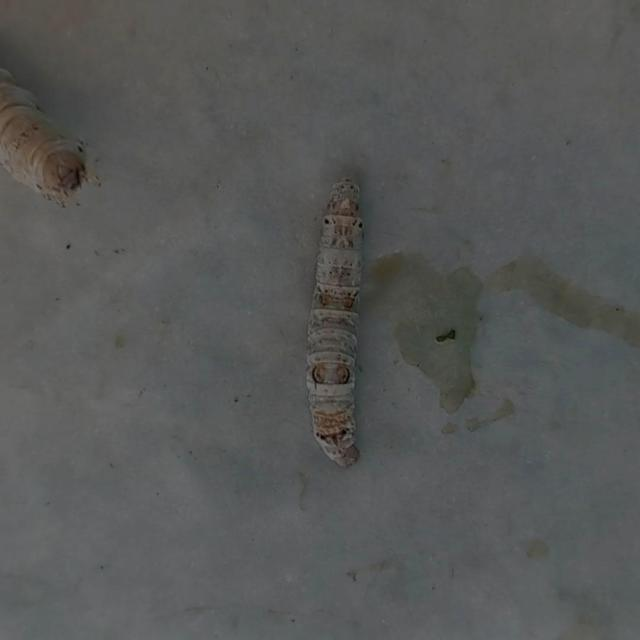Grasserie: (284, 151, 396, 481)
